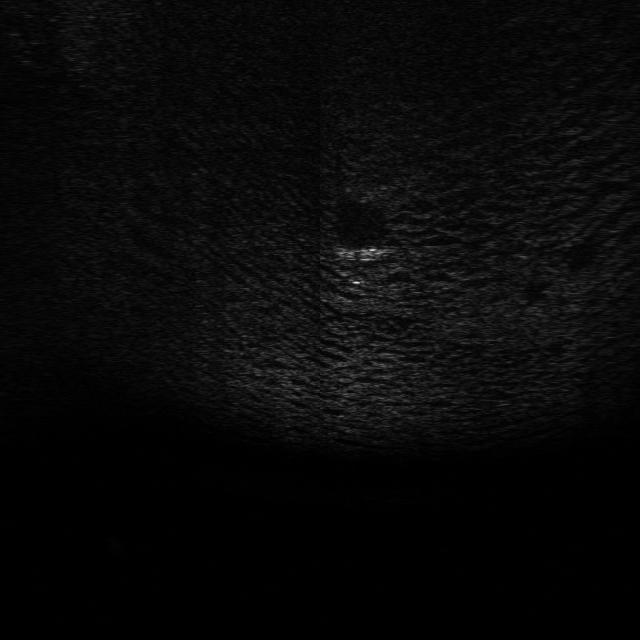plane: (332, 238, 396, 268)
